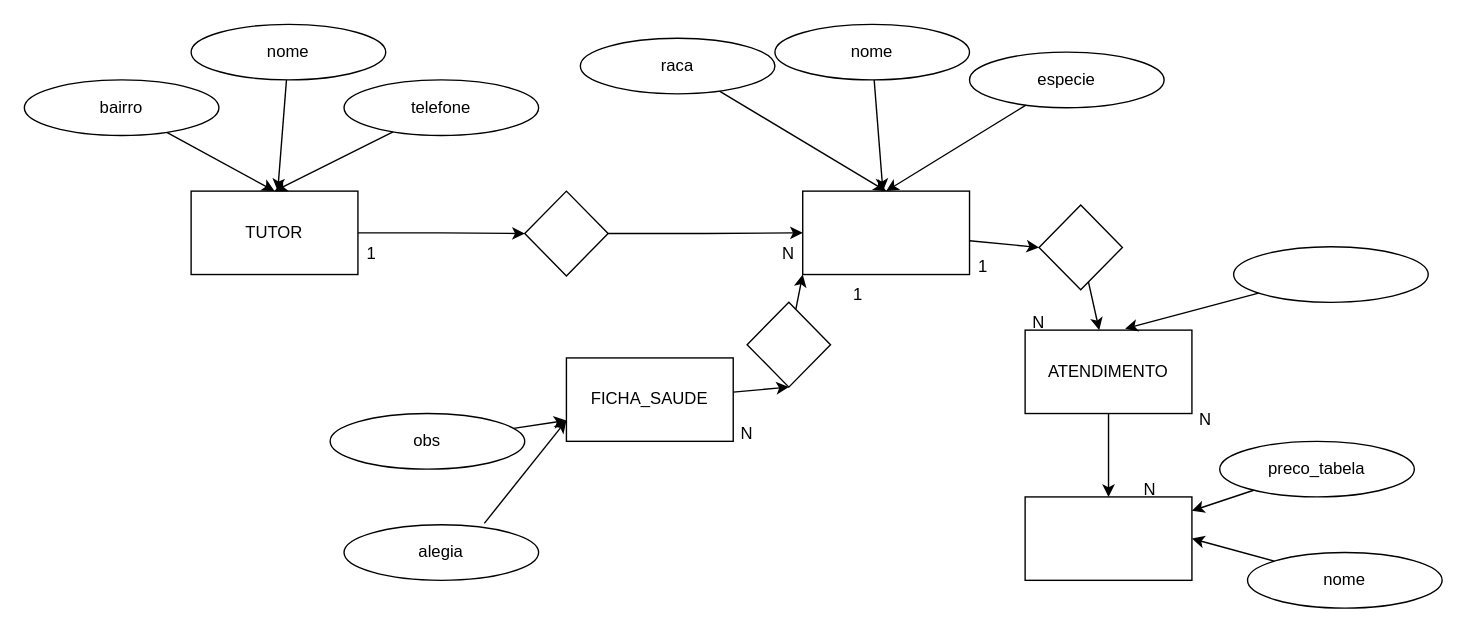
Image size: 1466x632. Some labels were removed from this diagram. The shapes that lost their labels are listed below. From the top down, each one's box as (x1, y1, x2, y2) in pixels, then its label:
(523, 190, 608, 276): possui
(801, 190, 970, 275): PET
(1038, 204, 1122, 290): recebe
(1232, 245, 1428, 302): data
(746, 301, 831, 387): tem
(1024, 496, 1192, 580): SERVICO
